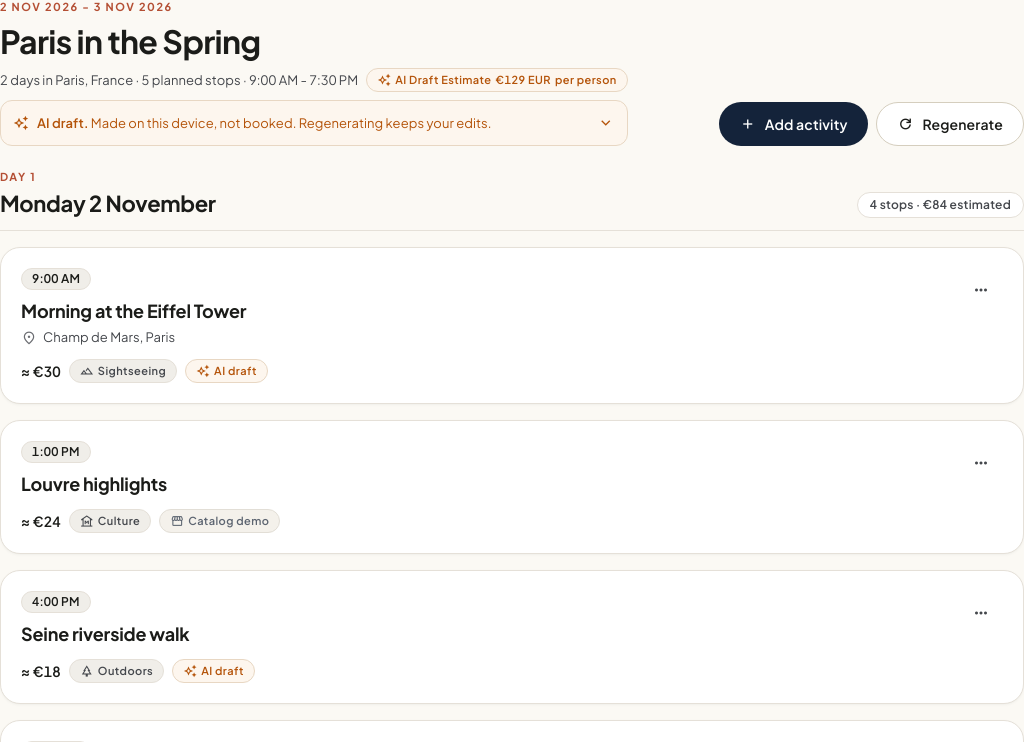
Scenario: ItineraryPage › adding an activity by hand › refuses to save an activity with no name and explains why
Expected: the heading "Paris in the Spring" is shown, [0, 21, 261, 61]
Click the button "Add activity". click: point(793, 124)
box: [719, 102, 868, 146]
(page scrolled)
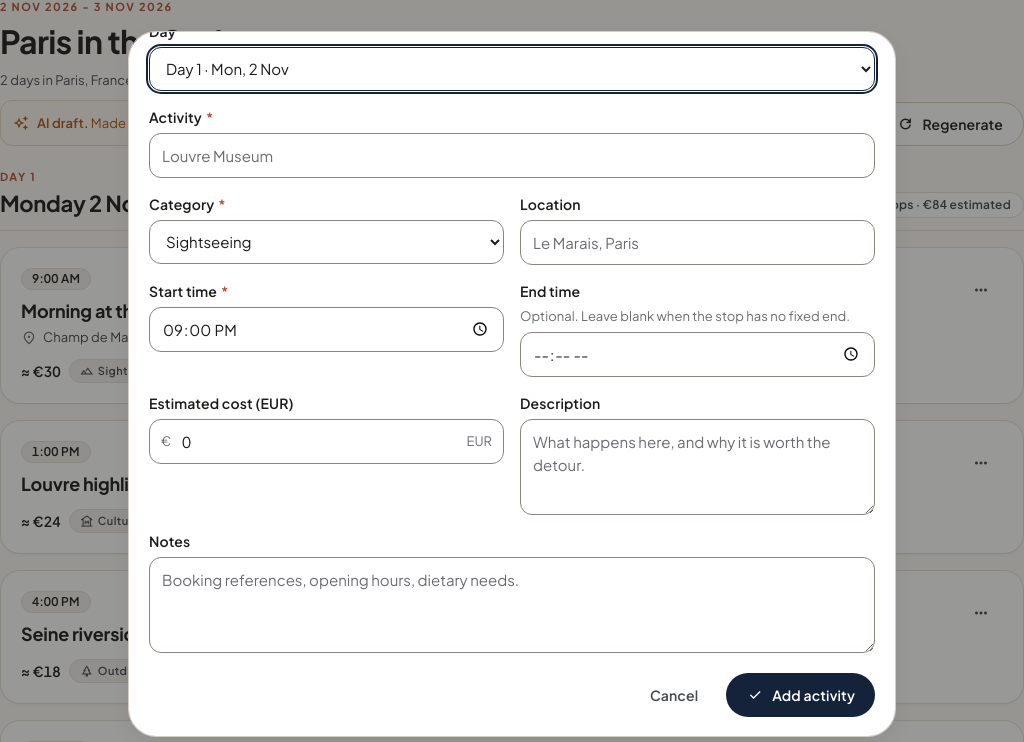
Click the button "Add activity". click: point(801, 695)
box: [726, 673, 875, 717]
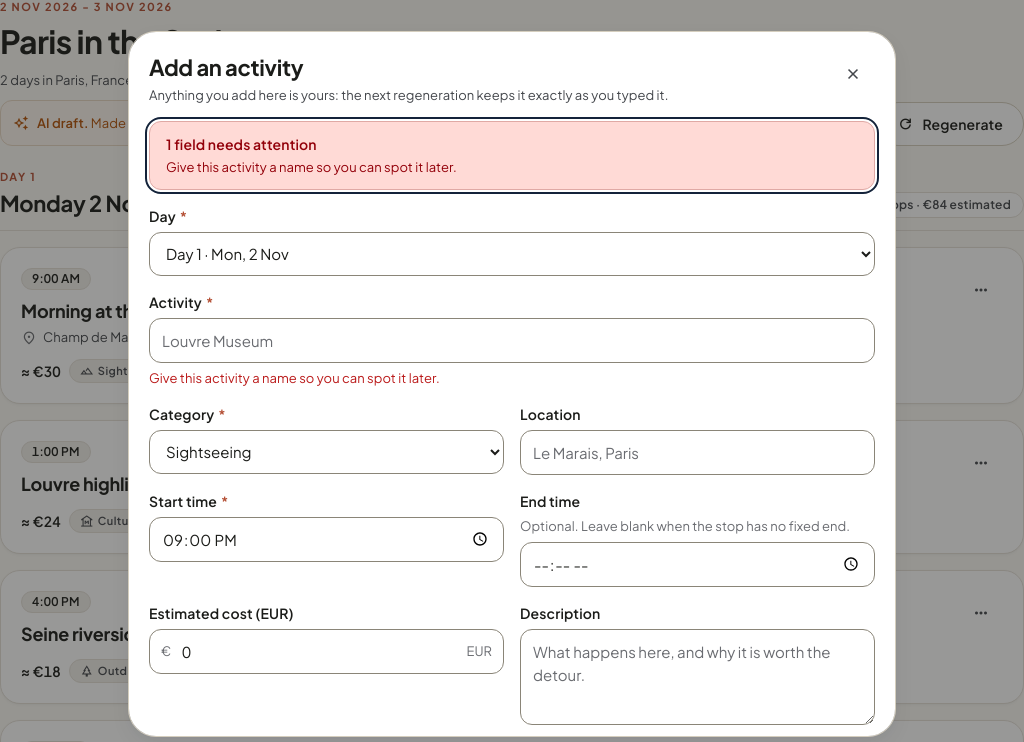
Expected: the dialog is shown
Expected: the message shows "1 field needs attention", [166, 135, 317, 153]
Expected: the message shows "Give this activity a name so you can spot it later.", [166, 159, 457, 175]
